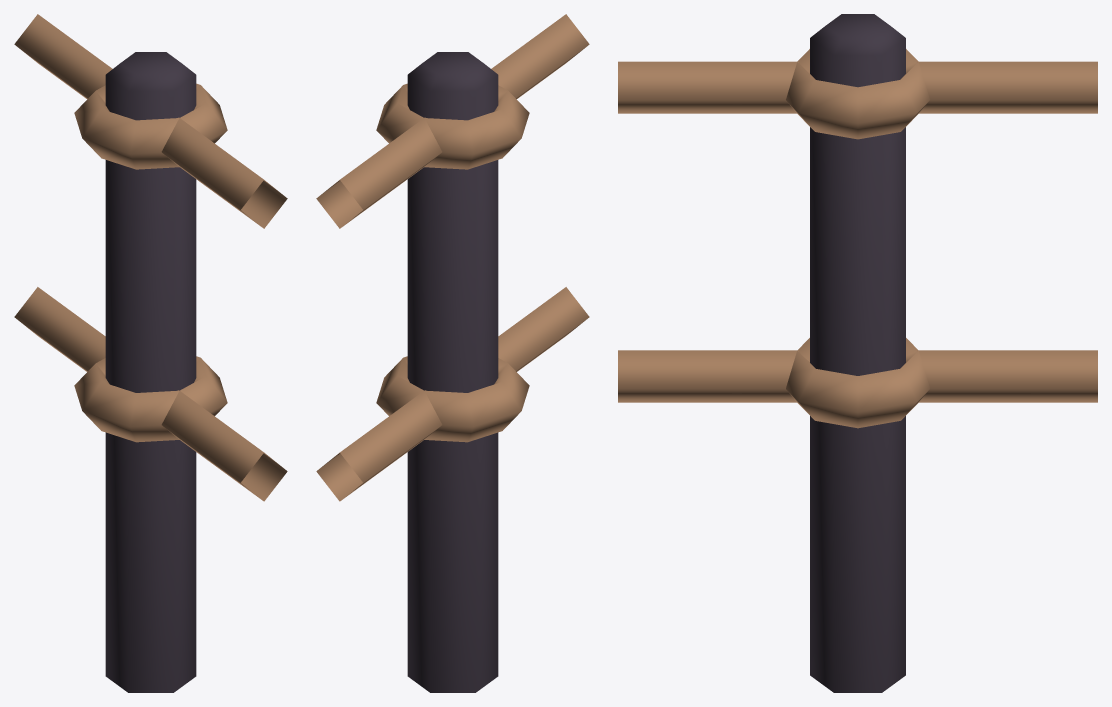
The model's file is CA_091_092_railing_straight_pole.glb.
The picture shows the model from 3 angles, left to right: view 1: azimuth 30°, elevation 25°; view 2: azimuth 150°, elevation 25°; view 3: azimuth 270°, elevation 25°; orthographic projection. The views are drawn at different scales.
Parts seen in each view (by area): view 1: Pole, Ropes, Knots; view 2: Pole, Ropes, Knots; view 3: Pole, Ropes, Knots.
Part boxes in pixels (box(x1,y1,x2,y2)): Pole: box(105, 52, 196, 692); Ropes: box(14, 14, 287, 501); Knots: box(74, 83, 227, 442); Pole: box(407, 52, 498, 692); Ropes: box(316, 14, 589, 501); Knots: box(376, 83, 529, 442); Pole: box(810, 14, 905, 692); Ropes: box(618, 61, 1097, 402); Knots: box(786, 49, 929, 428).
Size of the model in its own units: 0.263 by 1.12 by 0.75.
